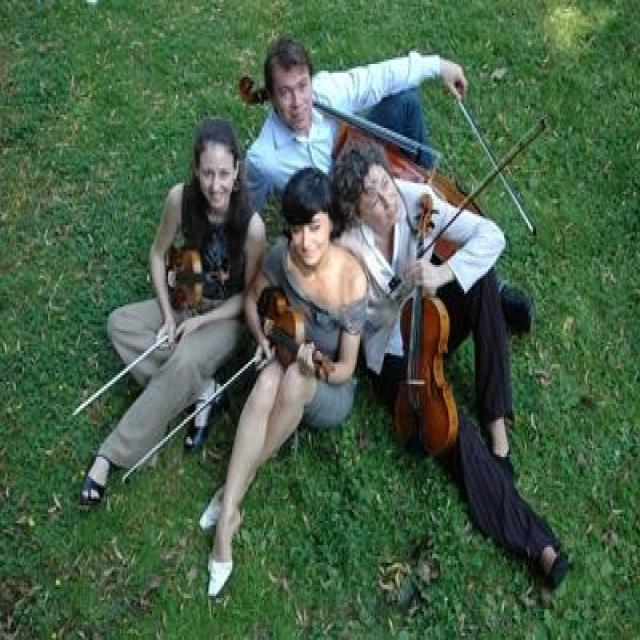cello: (242, 71, 490, 265)
violin: (396, 194, 462, 457), (258, 290, 336, 374), (168, 245, 230, 311)
